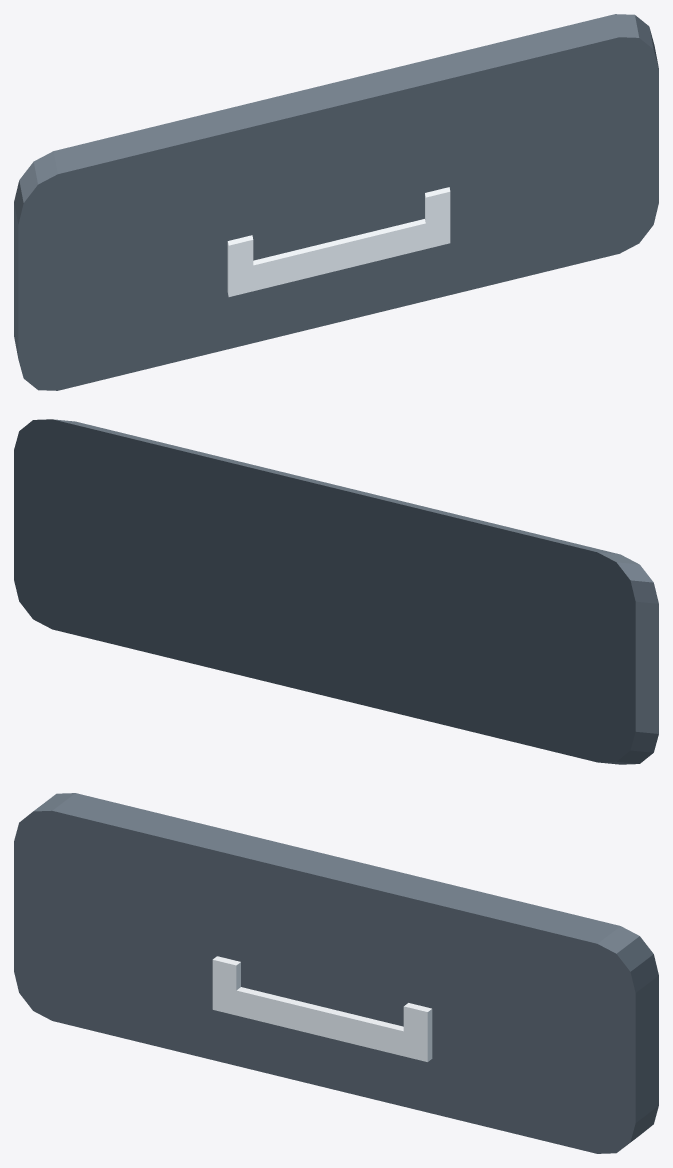
The model's file is Key_Space.gltf.
3 renders of one model, top to bottom at view 1: azimuth 30°, elevation 25°; view 2: azimuth 150°, elevation 25°; view 3: azimuth 330°, elevation 25°, orthographic. The views are drawn at different scales.
Parts seen in each view (by area): view 1: Key_Space_baked; view 2: Key_Space_baked; view 3: Key_Space_baked.
Boxes of the visible parts, x1=… form: Key_Space_baked: x1=14, y1=14, x2=658, y2=390; Key_Space_baked: x1=14, y1=419, x2=658, y2=764; Key_Space_baked: x1=14, y1=793, x2=658, y2=1153.
Size of the model in its own units: 2.64 by 0.88 by 0.12.
